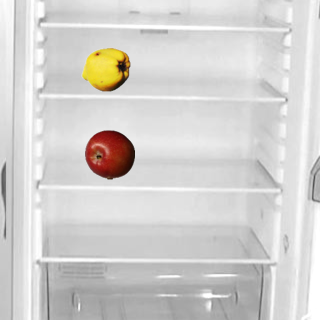Apple Braeburn: (84, 129, 134, 179)
Quince: (80, 44, 130, 94)
